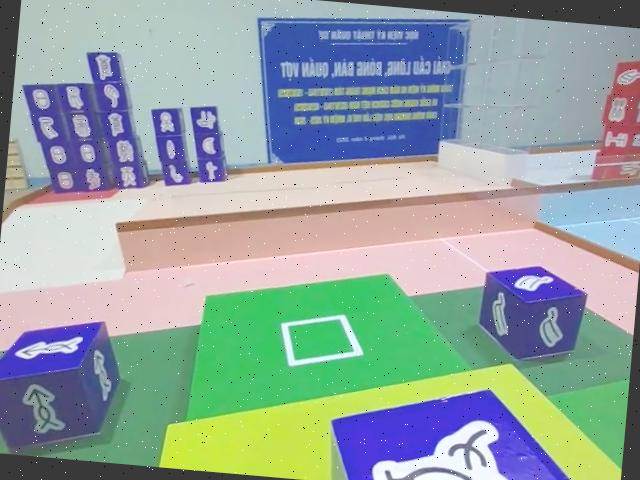R2 Real Blue: (319, 379, 609, 480), (0, 308, 129, 455), (471, 259, 587, 365)
